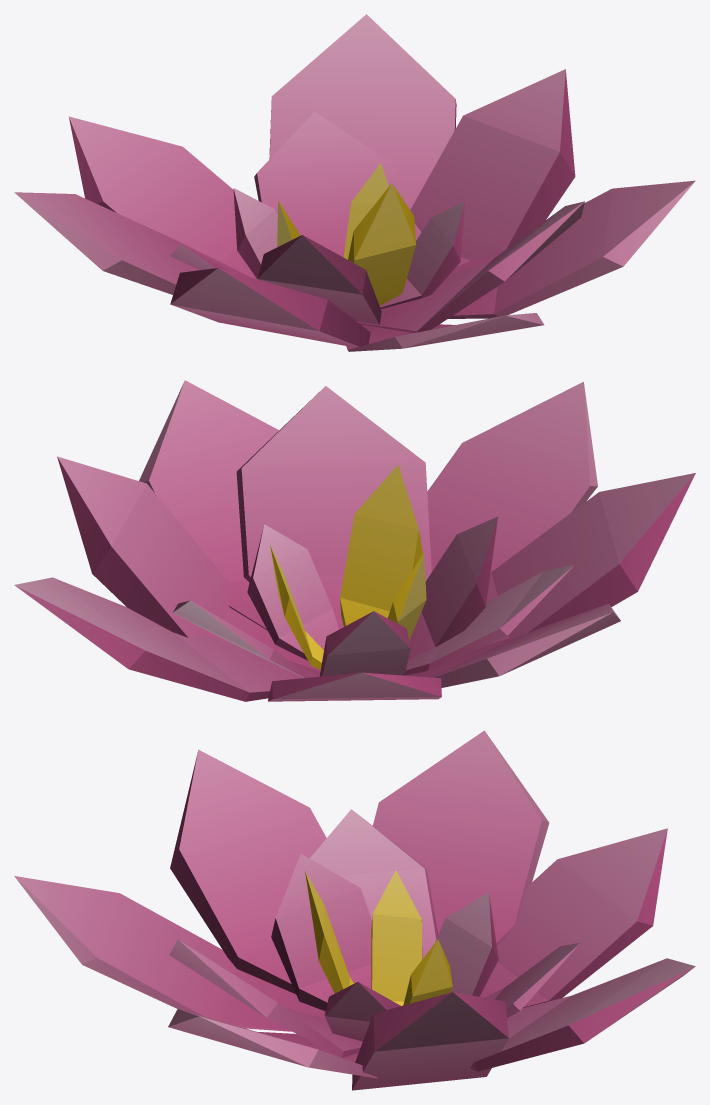
The model's file is Flower_A_1.fbx.
3 views of the same model, one above another, from view 1: azimuth 30°, elevation 25°; view 2: azimuth 150°, elevation 25°; view 3: azimuth 270°, elevation 25° (orthographic). The views are drawn at different scales.
Visible parts, largest first — view 1: Flower_A_1; view 2: Flower_A_1; view 3: Flower_A_1.
Boxes of the visible parts, bbox=[...] form: Flower_A_1: bbox=[14, 14, 695, 351]; Flower_A_1: bbox=[14, 380, 695, 701]; Flower_A_1: bbox=[14, 730, 695, 1090].
Size of the model in its own units: 39.8 by 12.92 by 42.78.
